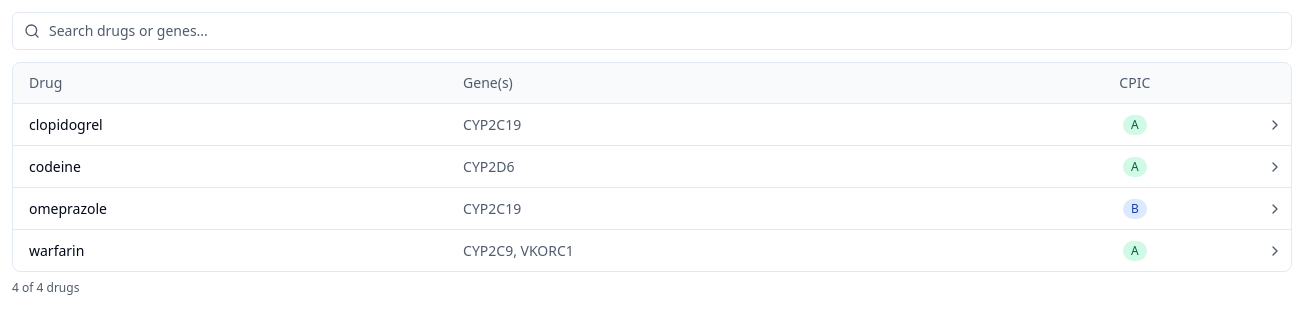
it: DrugTable › shows empty state when no results match
This screenshot has width=1304, height=312.
Type "nonexistent" into the field labelled "Search drugs or genes" at x=652, y=31, box [12, 12, 1292, 50]
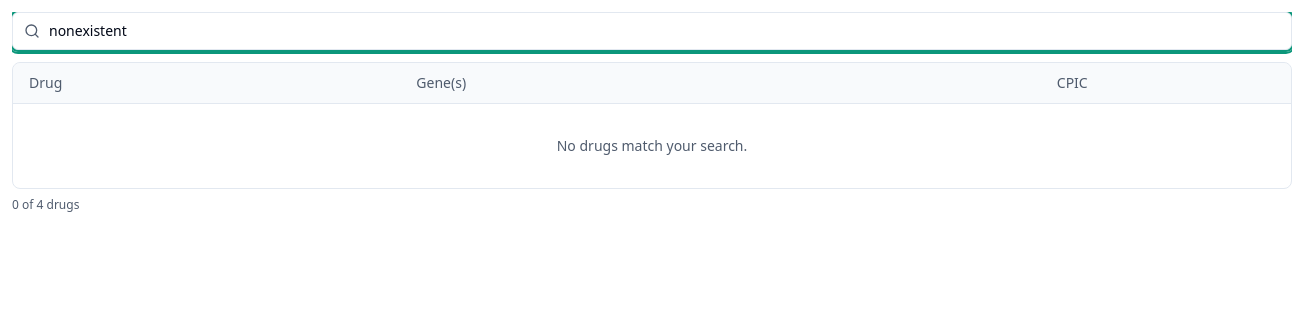
Expected: the text "No drugs match your search." is shown, [13, 104, 1291, 188]
